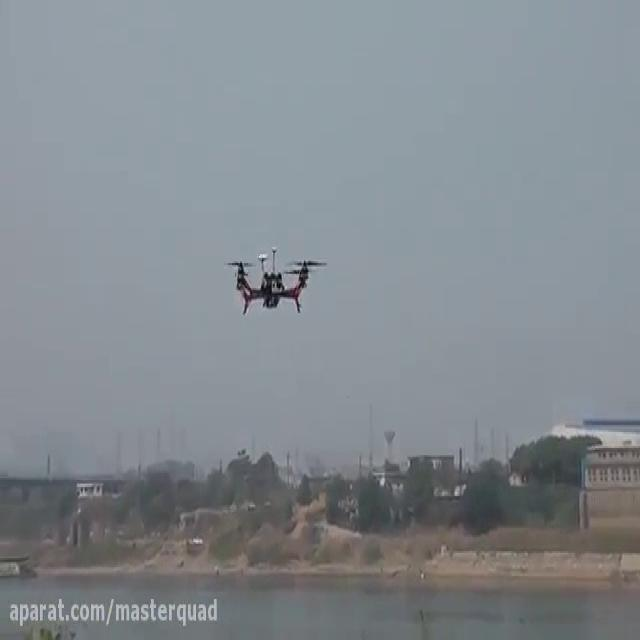drone: (223, 240, 328, 318)
